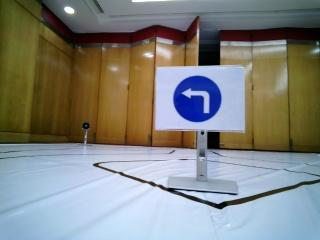left: (160, 66, 237, 128)
